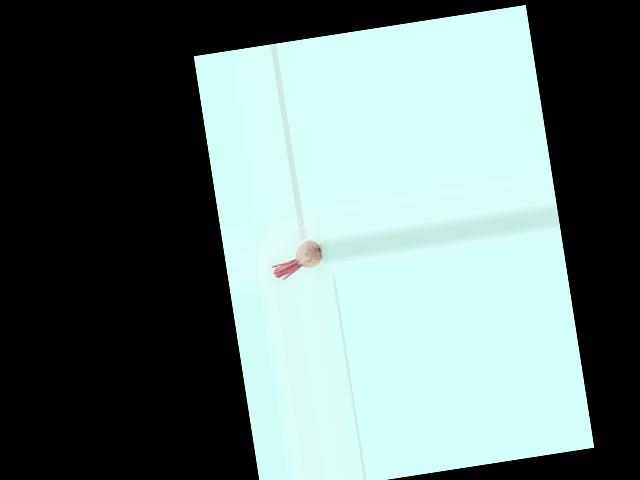beet: (269, 238, 324, 280)
